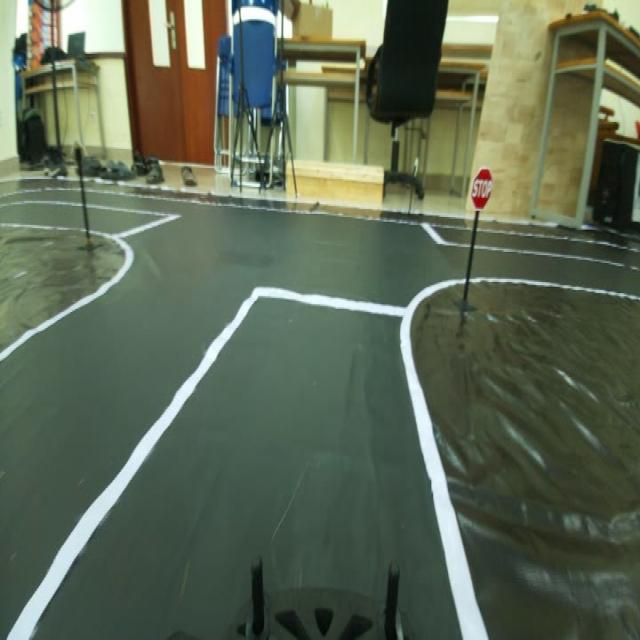stop: (471, 159, 494, 213)
